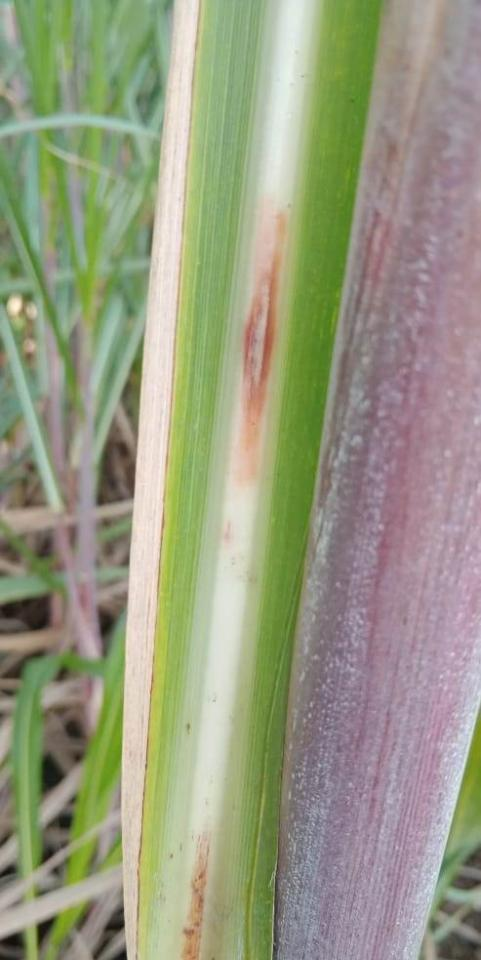RedRot: (231, 192, 286, 489), (182, 824, 213, 958), (219, 522, 234, 546)
